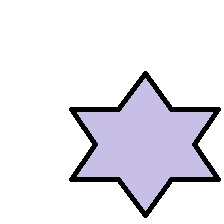star: (68, 71, 222, 218)
